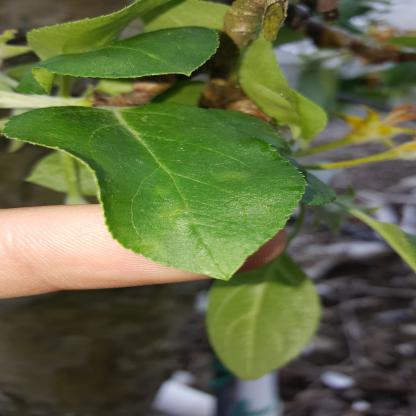Apple leaf: (4, 101, 321, 286), (49, 28, 237, 88)
